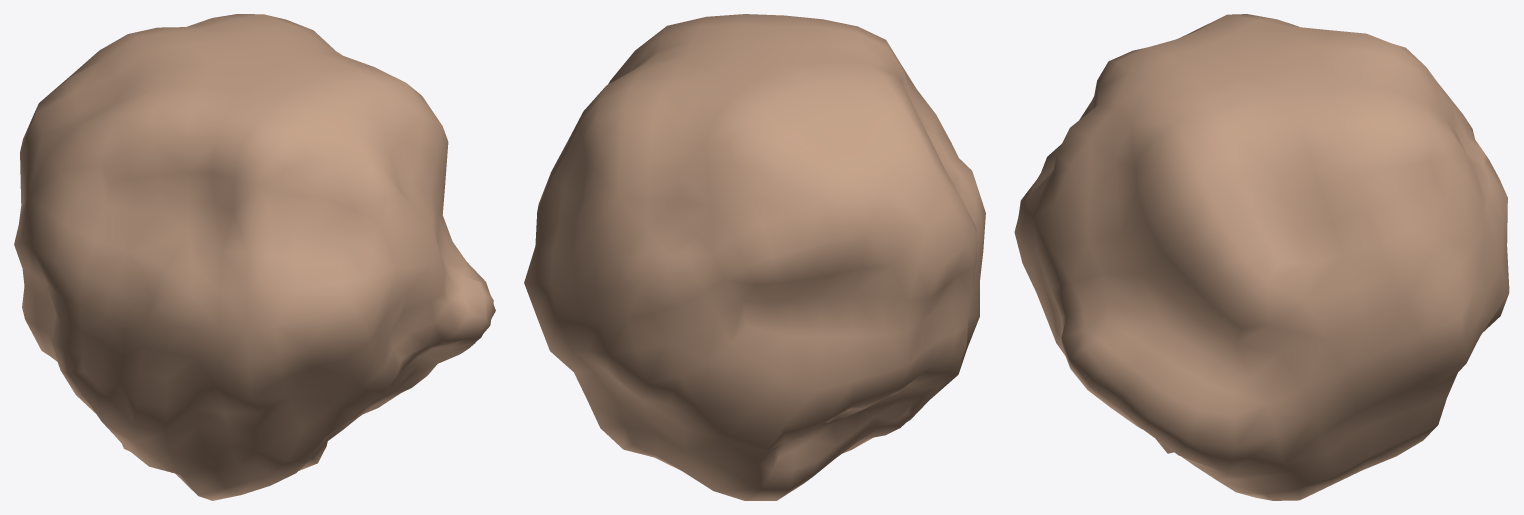
File: Pedraustor1.fbx
The picture shows the model from 3 angles, left to right: view 1: azimuth 30°, elevation 25°; view 2: azimuth 150°, elevation 25°; view 3: azimuth 270°, elevation 25°; orthographic projection.
Parts seen in each view (by area): view 1: sphere; view 2: sphere; view 3: sphere.
Boxes of the visible parts, box(x1,y1,x2,y2) form: sphere: box(14, 14, 495, 500); sphere: box(524, 14, 985, 500); sphere: box(1014, 14, 1509, 500).
Size of the model in its own units: 202 by 186 by 206.
